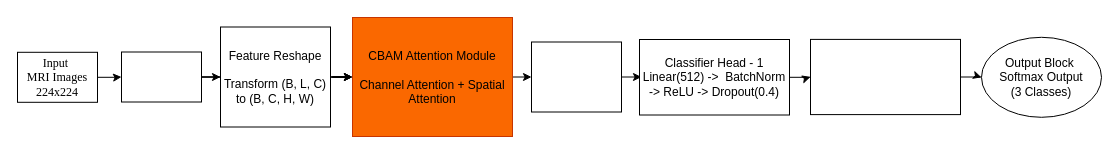
This 1119x154 diagram has some shape labels left out. Here are the shapes that lost their labels. From the top down, the centre of each, then its label:
point (161, 76): SWIN Transformer Backbone
point (576, 76): Pooling Block Global Average Pooling
point (885, 76): Classifier Head - 2 Linear(256) -> BatchNorm -> ReLU -> Dropout(0.3)
